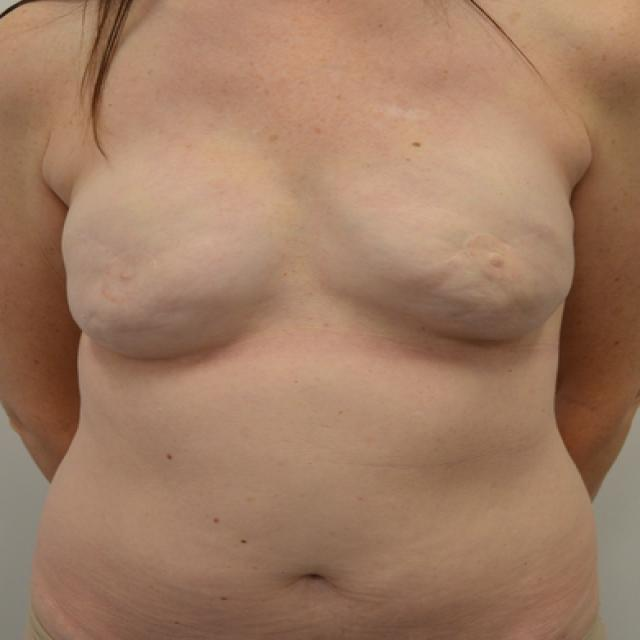Seno herido: (314, 178, 592, 367), (51, 180, 295, 377)
